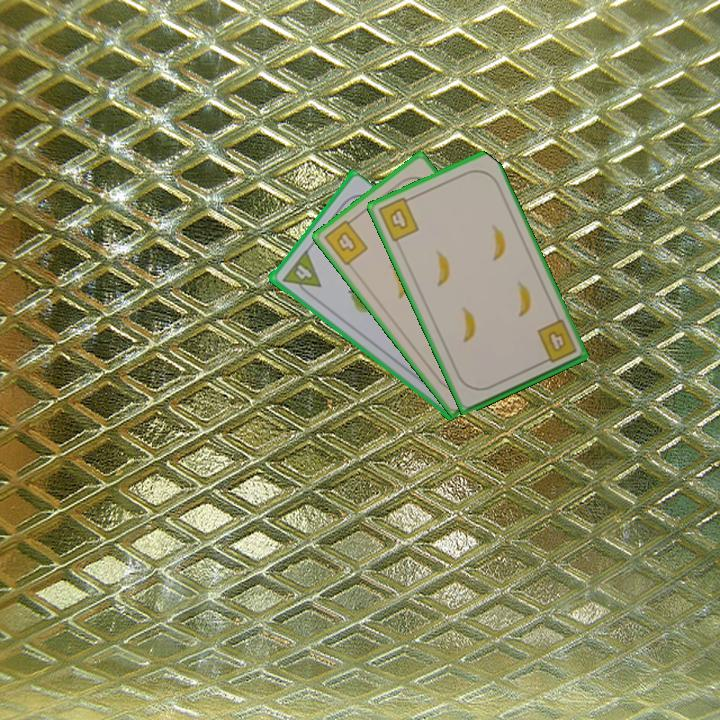4b: (320, 213, 371, 268), (374, 193, 422, 245), (533, 316, 579, 367)
4p: (278, 247, 323, 300)
